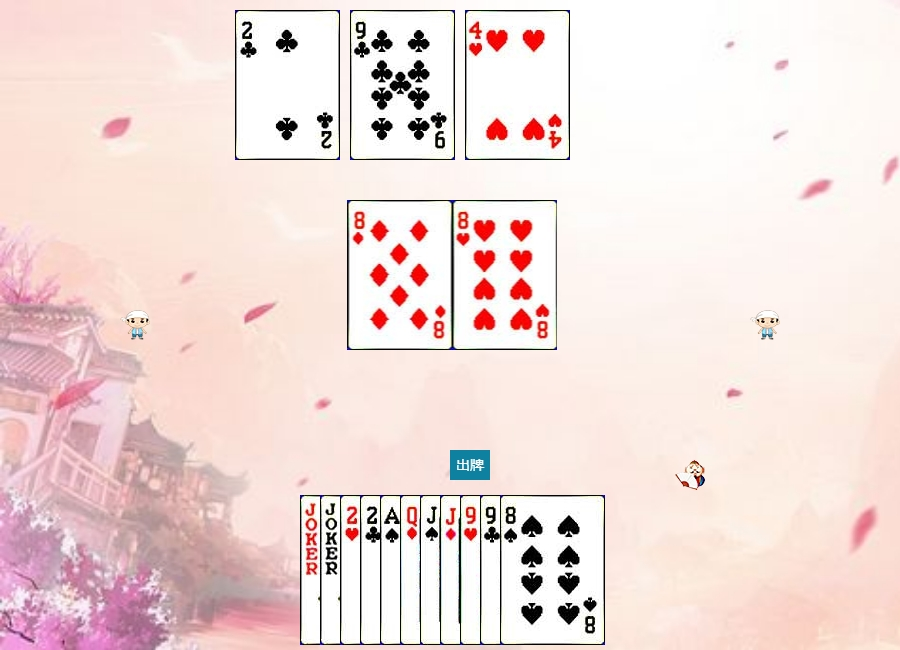11~1: (440, 495, 545, 645)
11~4: (420, 495, 525, 645)
12~1: (400, 495, 505, 645)
14~4: (380, 495, 485, 645)
15~2: (235, 10, 340, 160), (360, 495, 465, 645)
15~3: (340, 495, 445, 645)
17~3: (320, 495, 425, 645)
18~4: (300, 495, 405, 645)
4~3: (465, 10, 570, 160)
8~1: (348, 200, 453, 350)
8~3: (453, 200, 558, 350)
8~4: (500, 495, 605, 645)
9~2: (350, 10, 455, 160), (480, 495, 585, 645)
9~3: (460, 495, 565, 645)
